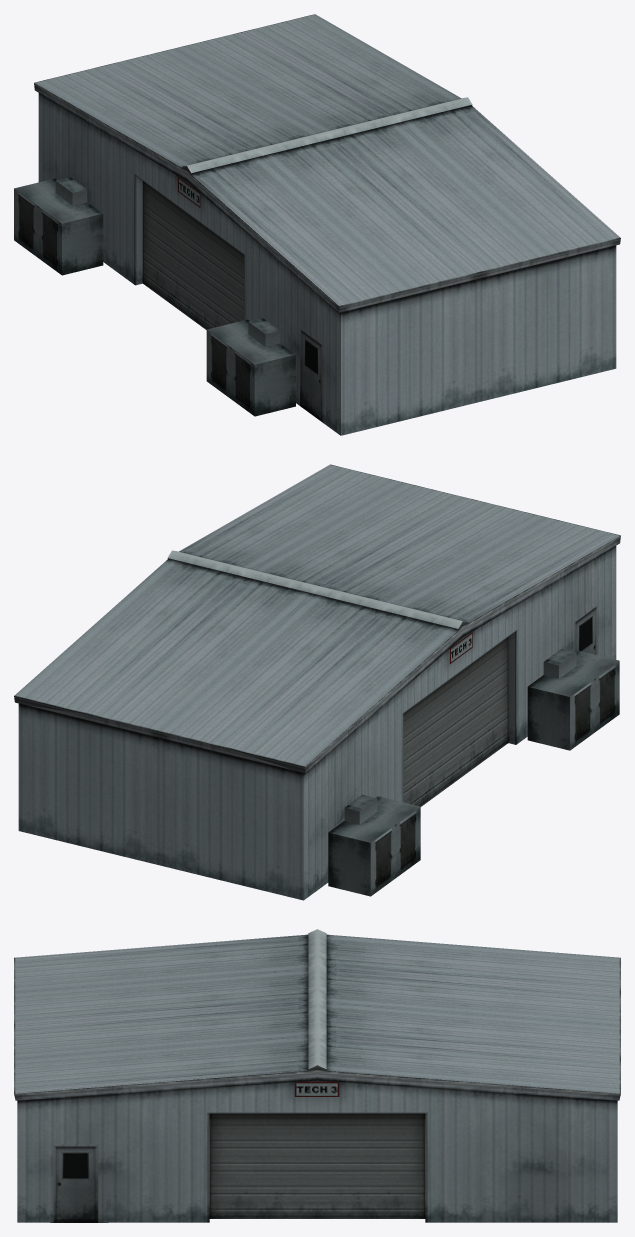
The model's file is house11.obj.
3 renders of one model, top to bottom at view 1: azimuth 30°, elevation 25°; view 2: azimuth 150°, elevation 25°; view 3: azimuth 270°, elevation 25°, orthographic. The views are drawn at different scales.
Parts seen in each view (by area): view 1: City_building_007.001; view 2: City_building_007.001; view 3: City_building_007.001.
Boxes of the visible parts, x1,y1,x2,y2 form: City_building_007.001: (14,14,620,435); City_building_007.001: (14,464,620,900); City_building_007.001: (14,929,620,1222).
Size of the model in its own units: 2.02 by 0.9581 by 3.32.
Materials: 1 (1 with a texture image).
